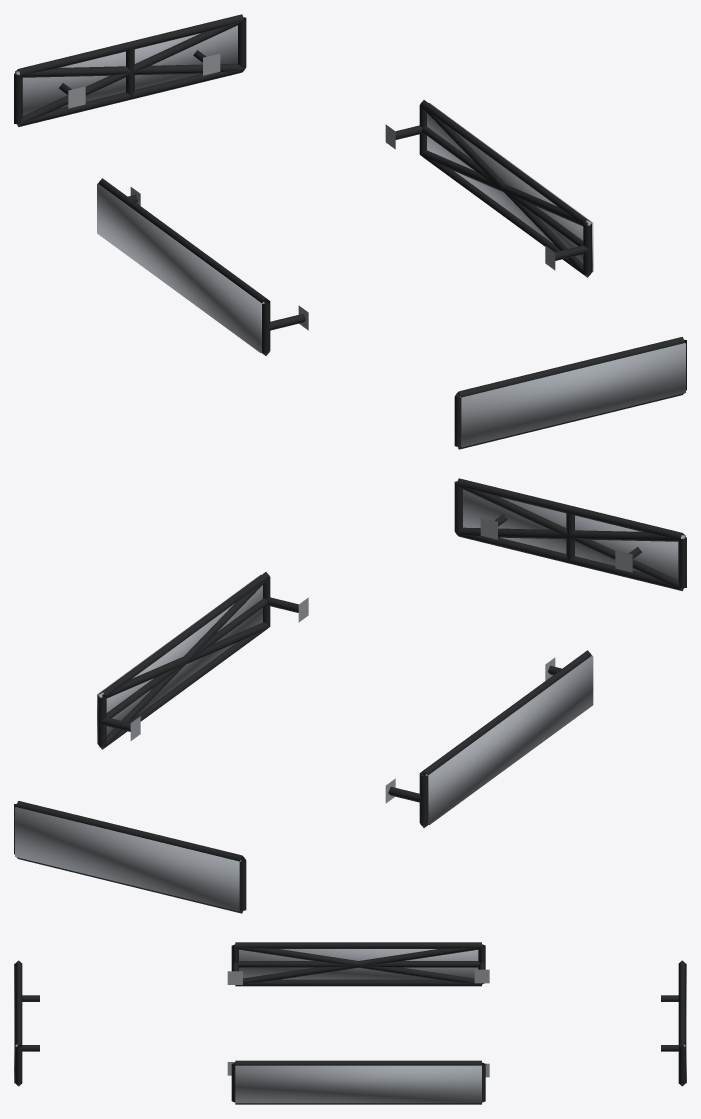
The model's file is bancroft_rugido_protecao.glb.
3 views of the same model, one above another, from view 1: azimuth 30°, elevation 25°; view 2: azimuth 150°, elevation 25°; view 3: azimuth 270°, elevation 25° (orthographic). The views are drawn at different scales.
Visible parts, largest first — view 1: Protection_front_Level3_Details, Protection_left_Level3_Details, Protection_rear_Level1_Details, Protection_rear_Level3_Details, Protection_right_Level1_Details, Protection_right_Level2_Details, Protection_rear_Level2_Details, Protection_right_Level3_Details, Protection_front_Level1_Details, Protection_left_Level1_Details; view 2: Protection_rear_Level3_Details, Protection_left_Level3_Details, Protection_front_Level1_Details, Protection_front_Level3_Details, Protection_right_Level1_Details, Protection_right_Level2_Details, Protection_front_Level2_Details, Protection_right_Level3_Details, Protection_left_Level1_Details, Protection_rear_Level1_Details; view 3: Protection_right_Level3_Details, Protection_left_Level2_Details, Protection_left_Level1_Details, Protection_left_Level3_Details, Protection_right_Level1_Details, Protection_rear_Level1_Details, Protection_front_Level1_Details.
Boxes of the visible parts, x1=… form: Protection_front_Level3_Details: x1=459, y1=343, x2=685, y2=447; Protection_left_Level3_Details: x1=97, y1=183, x2=264, y2=352; Protection_rear_Level1_Details: x1=14, y1=14, x2=246, y2=126; Protection_rear_Level3_Details: x1=15, y1=25, x2=237, y2=115; Protection_right_Level1_Details: x1=385, y1=100, x2=591, y2=277; Protection_right_Level2_Details: x1=420, y1=105, x2=591, y2=277; Protection_rear_Level2_Details: x1=16, y1=21, x2=244, y2=125; Protection_right_Level3_Details: x1=427, y1=103, x2=593, y2=272; Protection_front_Level1_Details: x1=454, y1=337, x2=686, y2=449; Protection_left_Level1_Details: x1=98, y1=178, x2=308, y2=355; Protection_rear_Level3_Details: x1=15, y1=807, x2=241, y2=911; Protection_left_Level3_Details: x1=425, y1=655, x2=593, y2=824; Protection_front_Level1_Details: x1=454, y1=478, x2=686, y2=590; Protection_front_Level3_Details: x1=463, y1=489, x2=685, y2=579; Protection_right_Level1_Details: x1=98, y1=572, x2=308, y2=749; Protection_right_Level2_Details: x1=99, y1=578, x2=269, y2=749; Protection_front_Level2_Details: x1=456, y1=485, x2=684, y2=589; Protection_right_Level3_Details: x1=97, y1=575, x2=262, y2=744; Protection_left_Level1_Details: x1=385, y1=650, x2=591, y2=827; Protection_rear_Level1_Details: x1=14, y1=801, x2=246, y2=913; Protection_right_Level3_Details: x1=235, y1=1065, x2=481, y2=1103; Protection_left_Level2_Details: x1=235, y1=945, x2=482, y2=984; Protection_left_Level1_Details: x1=227, y1=942, x2=489, y2=986; Protection_left_Level3_Details: x1=239, y1=949, x2=478, y2=979; Protection_right_Level1_Details: x1=227, y1=1060, x2=489, y2=1104; Protection_rear_Level1_Details: x1=661, y1=960, x2=685, y2=1086; Protection_front_Level1_Details: x1=15, y1=960, x2=39, y2=1086.
Bounding box in the file's own units: 2.11 × 0.354 × 4.91.
1 material, 1 textured.
